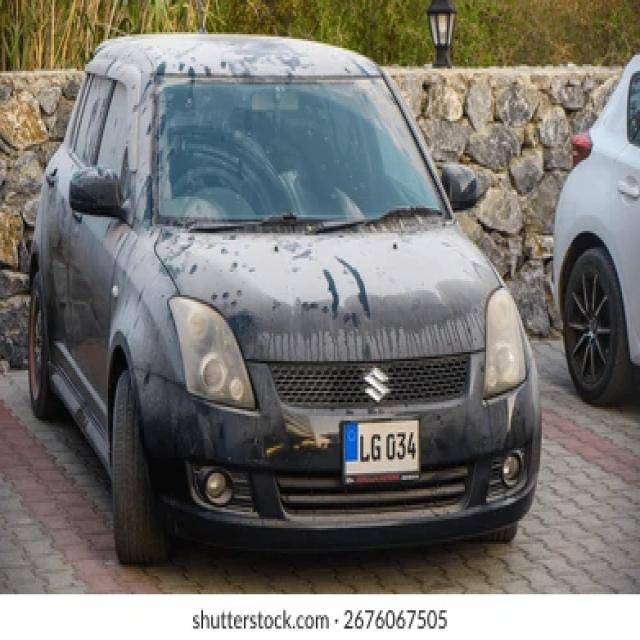seat: (362, 366, 394, 402)
